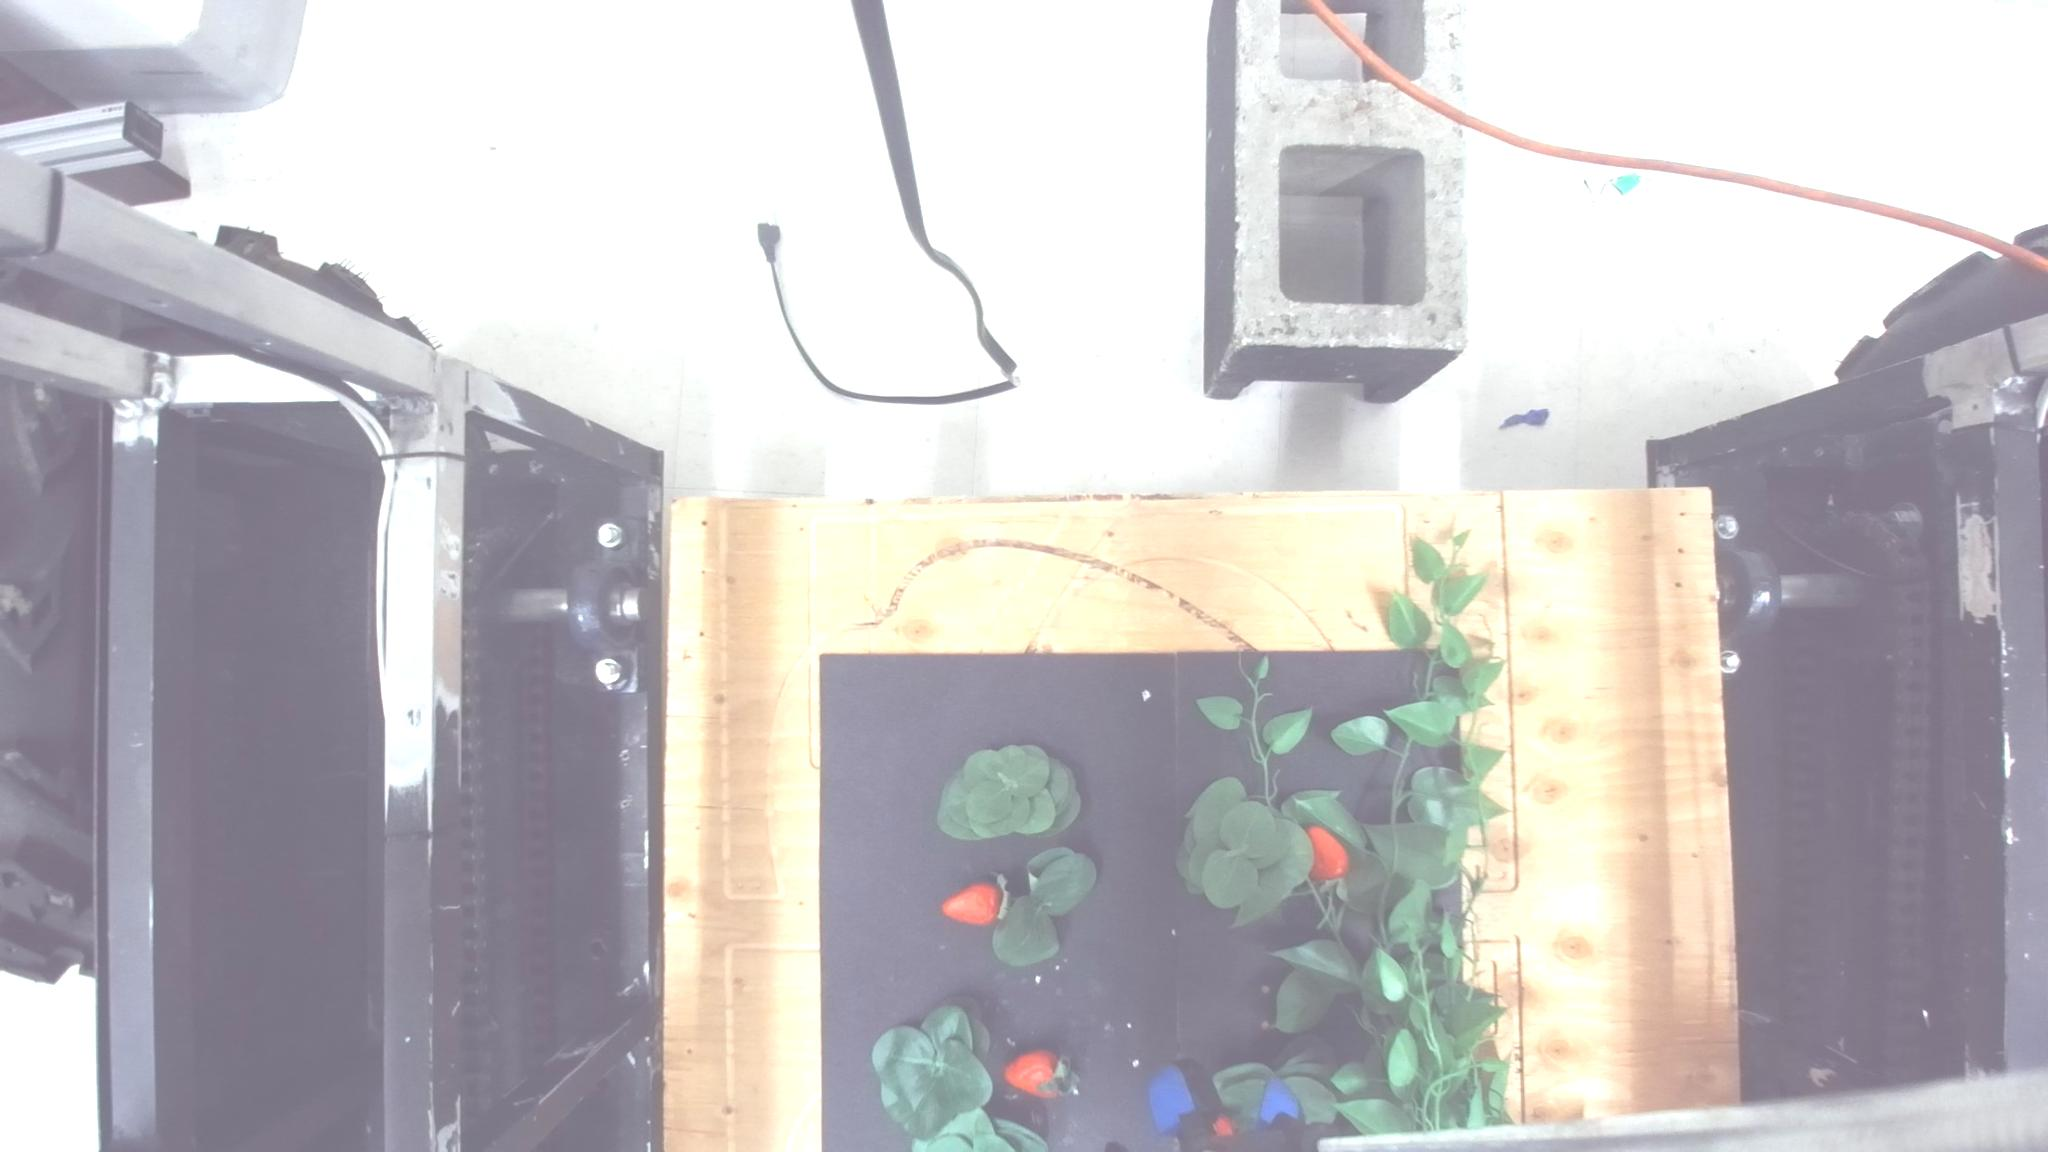strawberry: (1003, 1048, 1079, 1100), (940, 873, 1009, 926), (1303, 823, 1349, 883)
